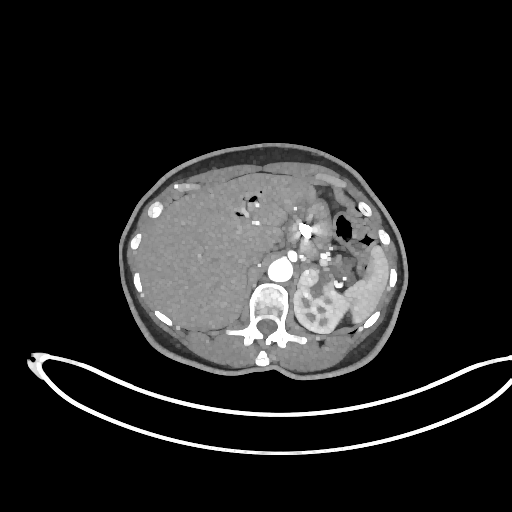Lesion: (299, 268, 339, 304)
